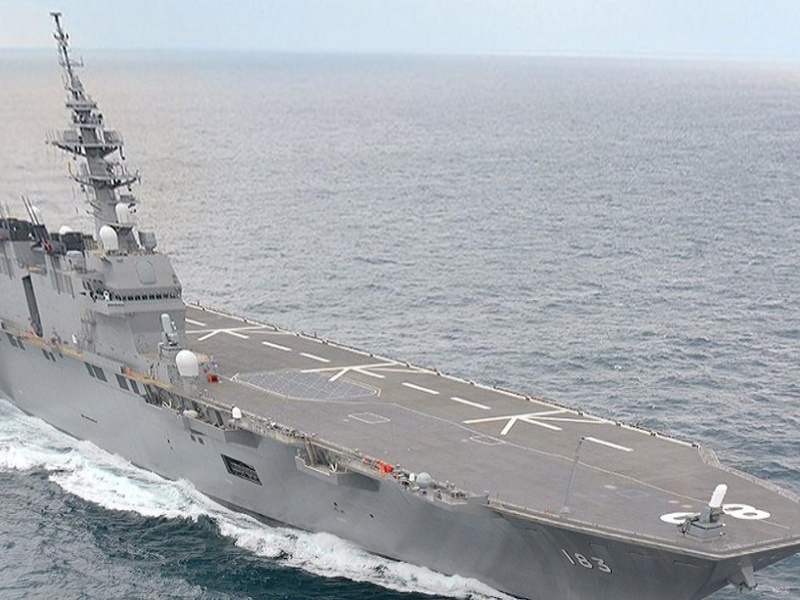carrier: (22, 112, 799, 591)
